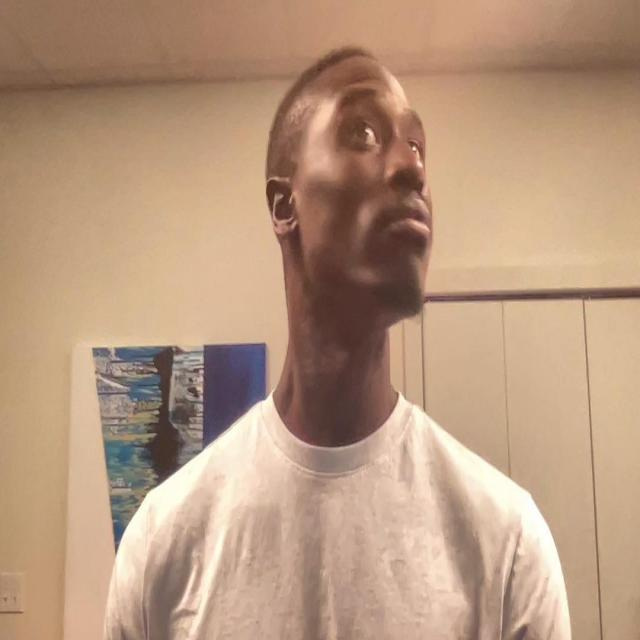face: (266, 62, 432, 323)
